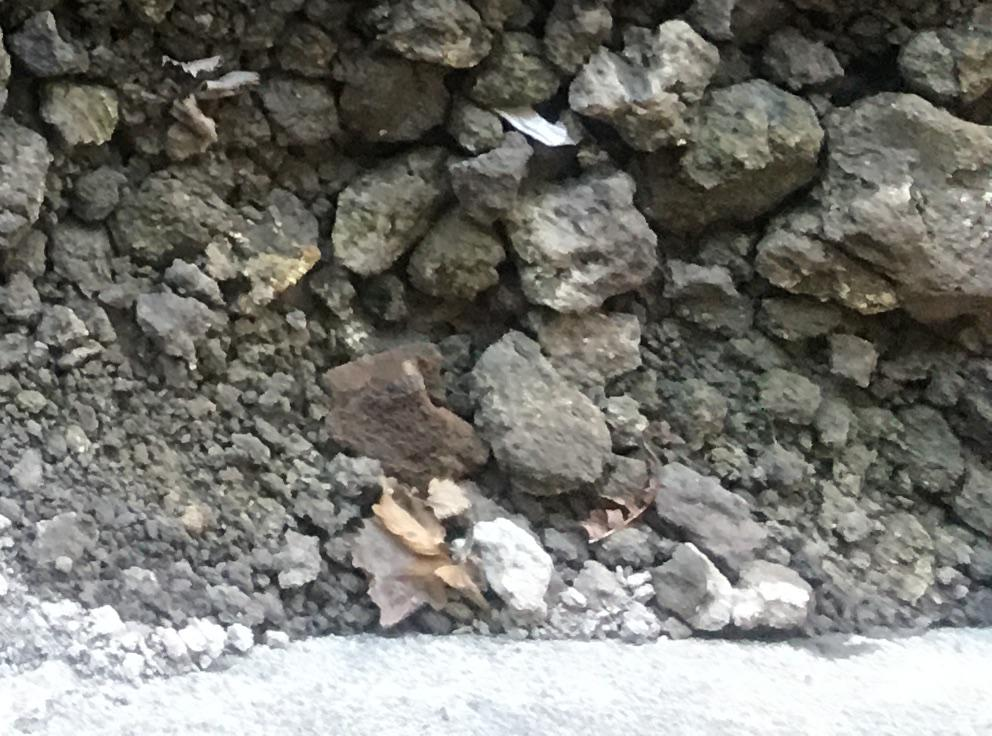block: (825, 89, 992, 329), (647, 79, 822, 227), (312, 343, 485, 489), (462, 329, 611, 497), (502, 168, 663, 314)
